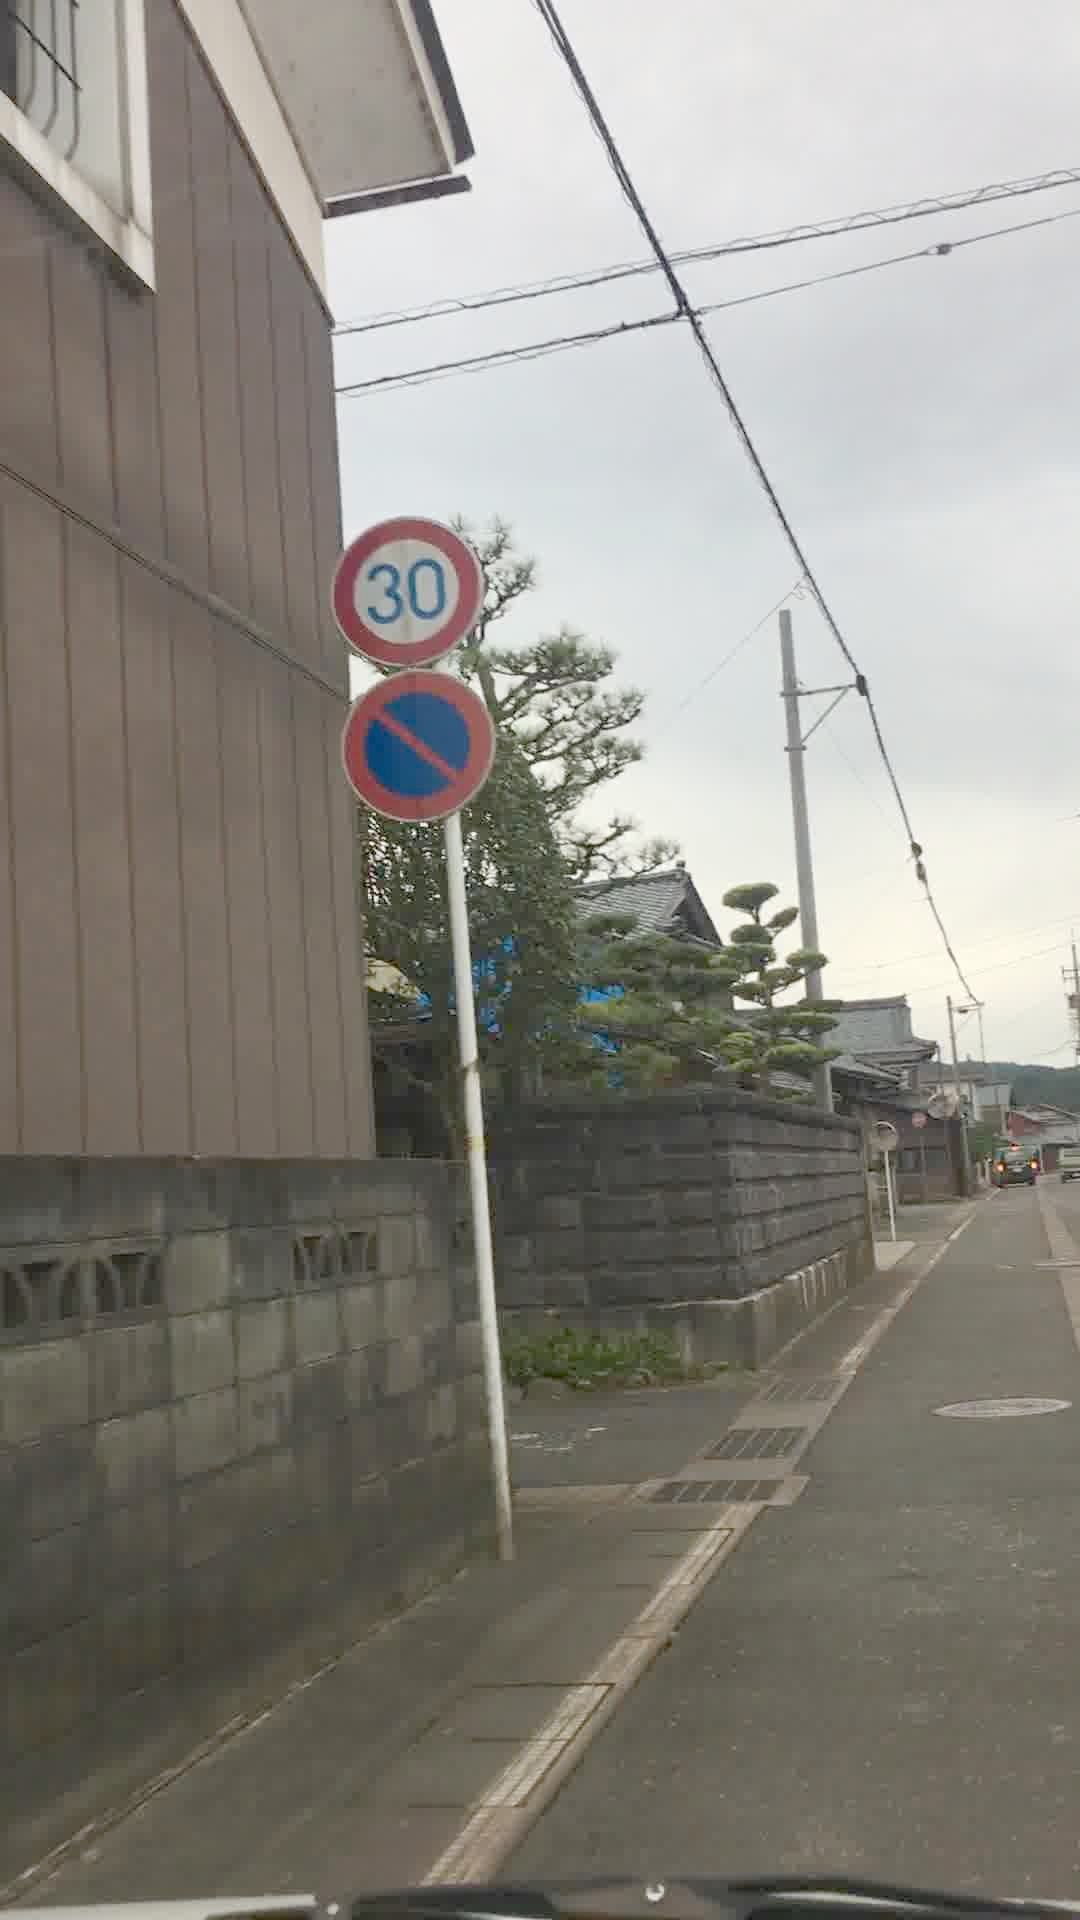Prohibition_sign: (334, 674, 504, 840)
Speed_sign: (330, 518, 502, 678)
